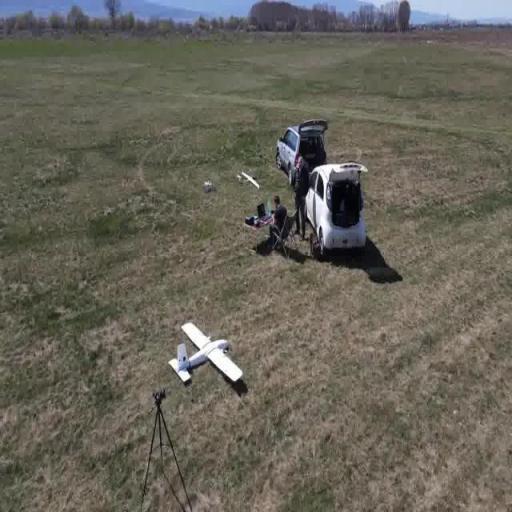uav: (166, 318, 248, 400)
